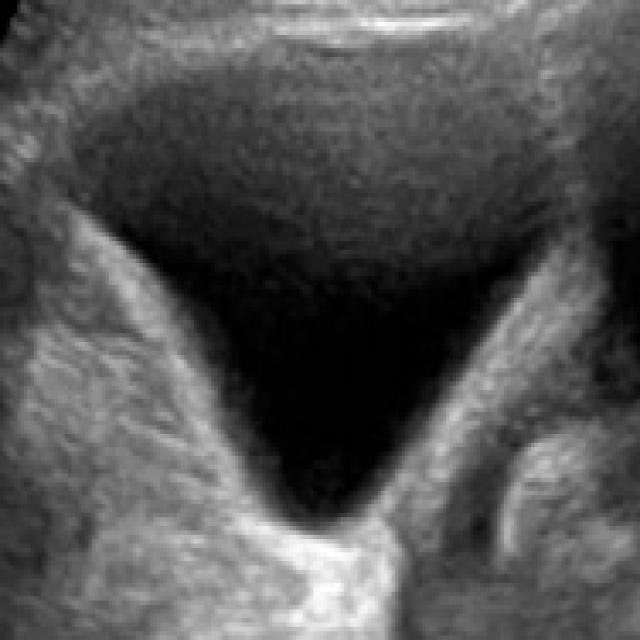bladder: (28, 14, 578, 589)
